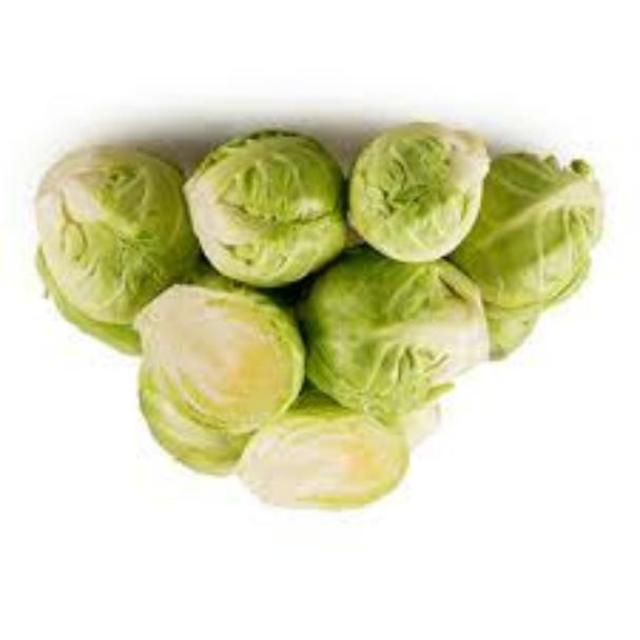brus capusta: (9, 150, 228, 356), (96, 270, 314, 465), (312, 241, 482, 431), (450, 150, 605, 322), (244, 388, 417, 542), (177, 134, 324, 290), (338, 124, 476, 264)
